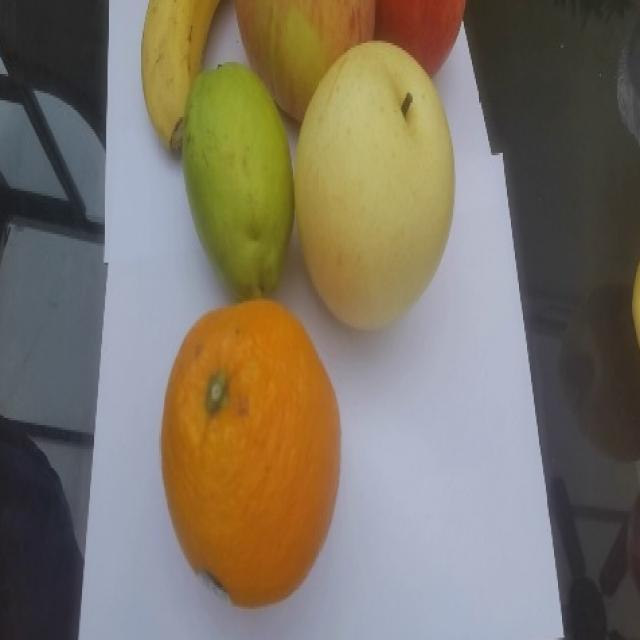Apple: (232, 0, 376, 124)
Banana: (140, 0, 222, 154)
Orange: (159, 297, 341, 608)
